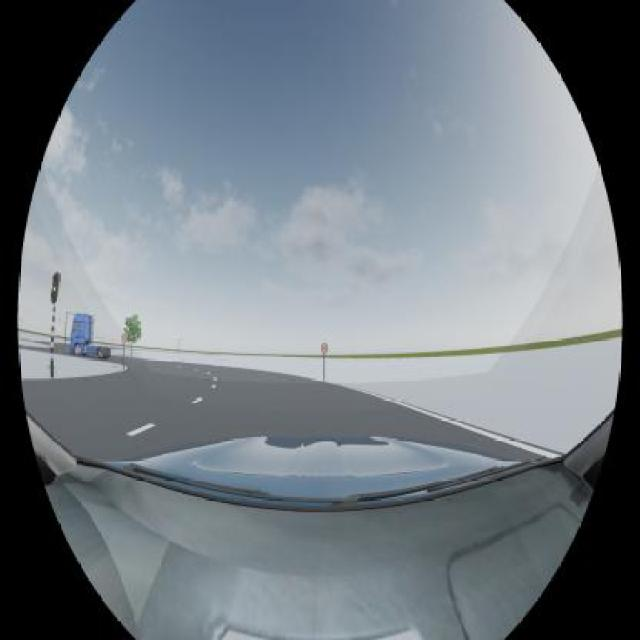forb_speed_over_80: (320, 343, 328, 354)
